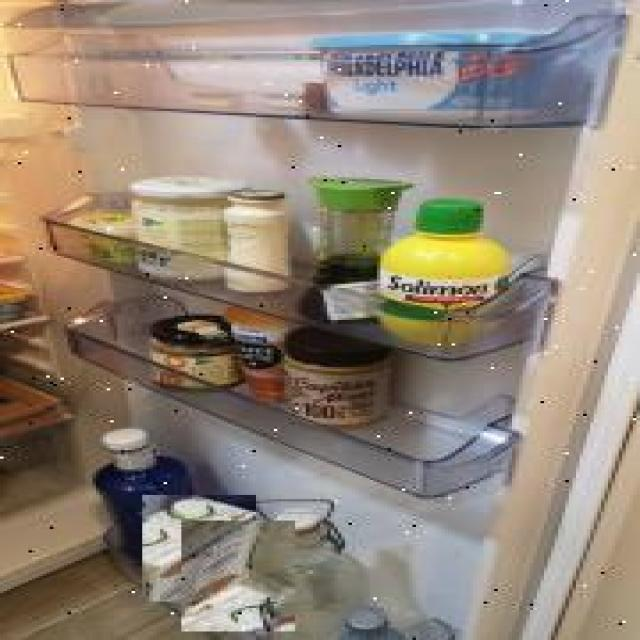milk: (181, 522, 295, 632), (142, 495, 256, 602)
